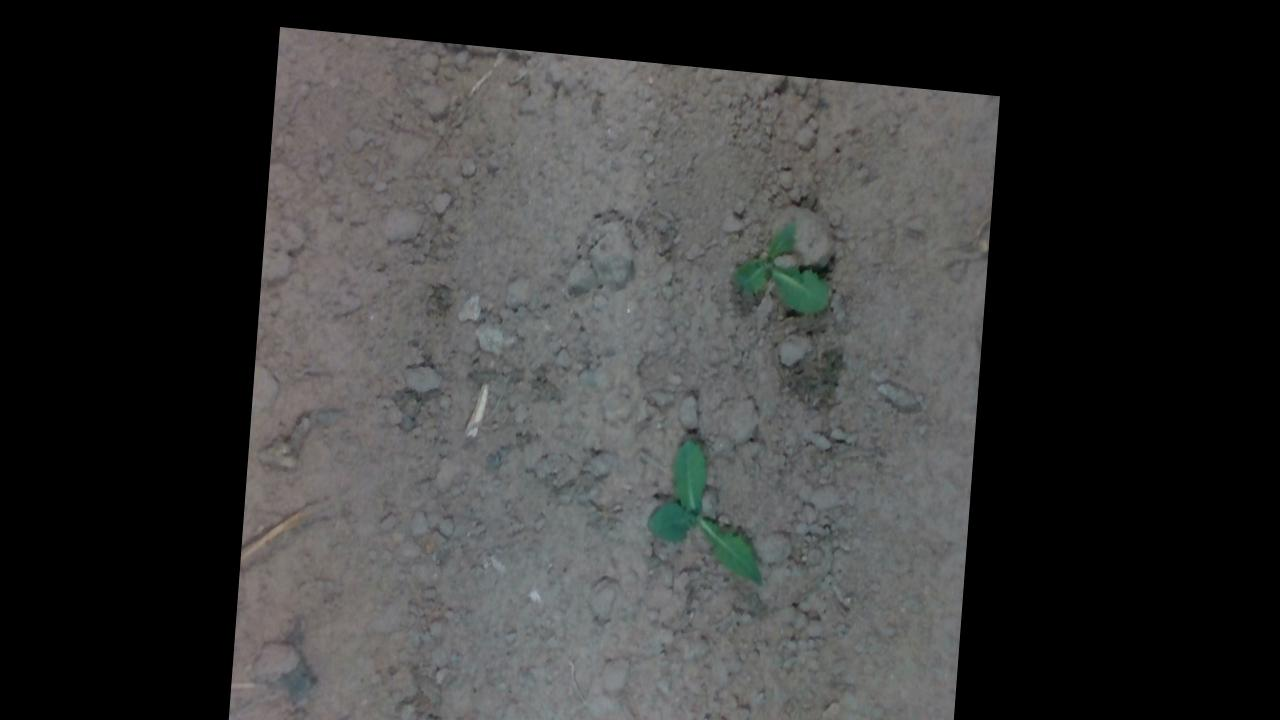weed: (647, 422, 778, 574), (729, 201, 840, 300), (809, 705, 925, 719)
